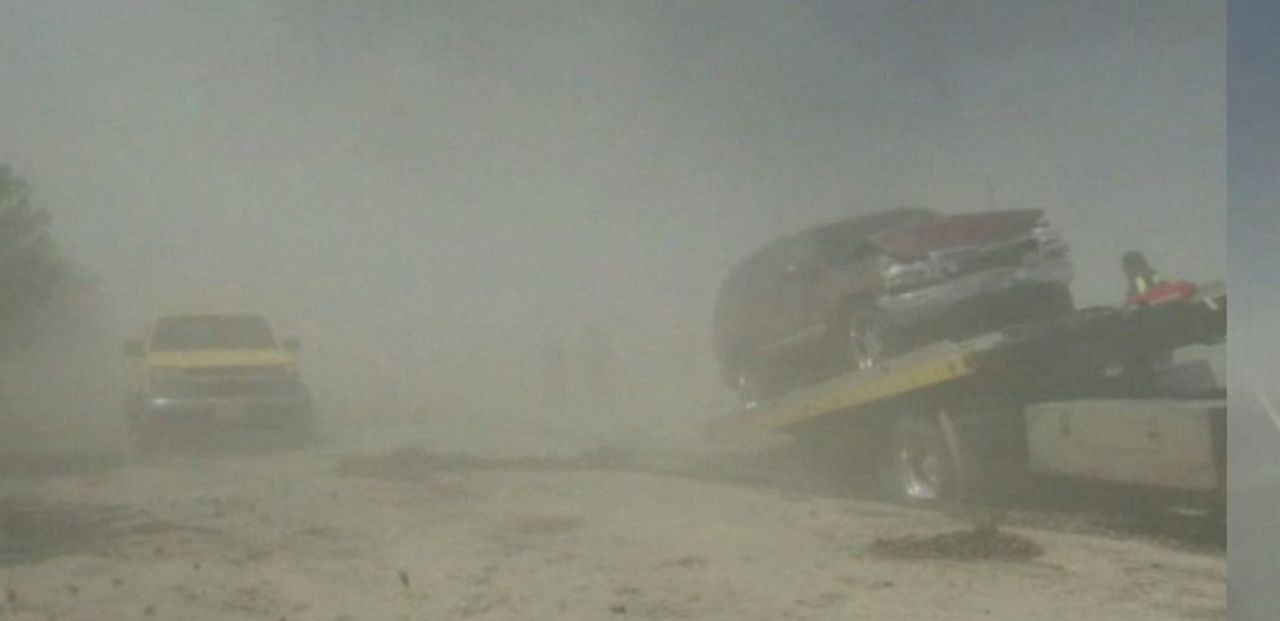car: (726, 195, 1069, 382), (120, 306, 316, 444)
truck: (700, 257, 1279, 514)
